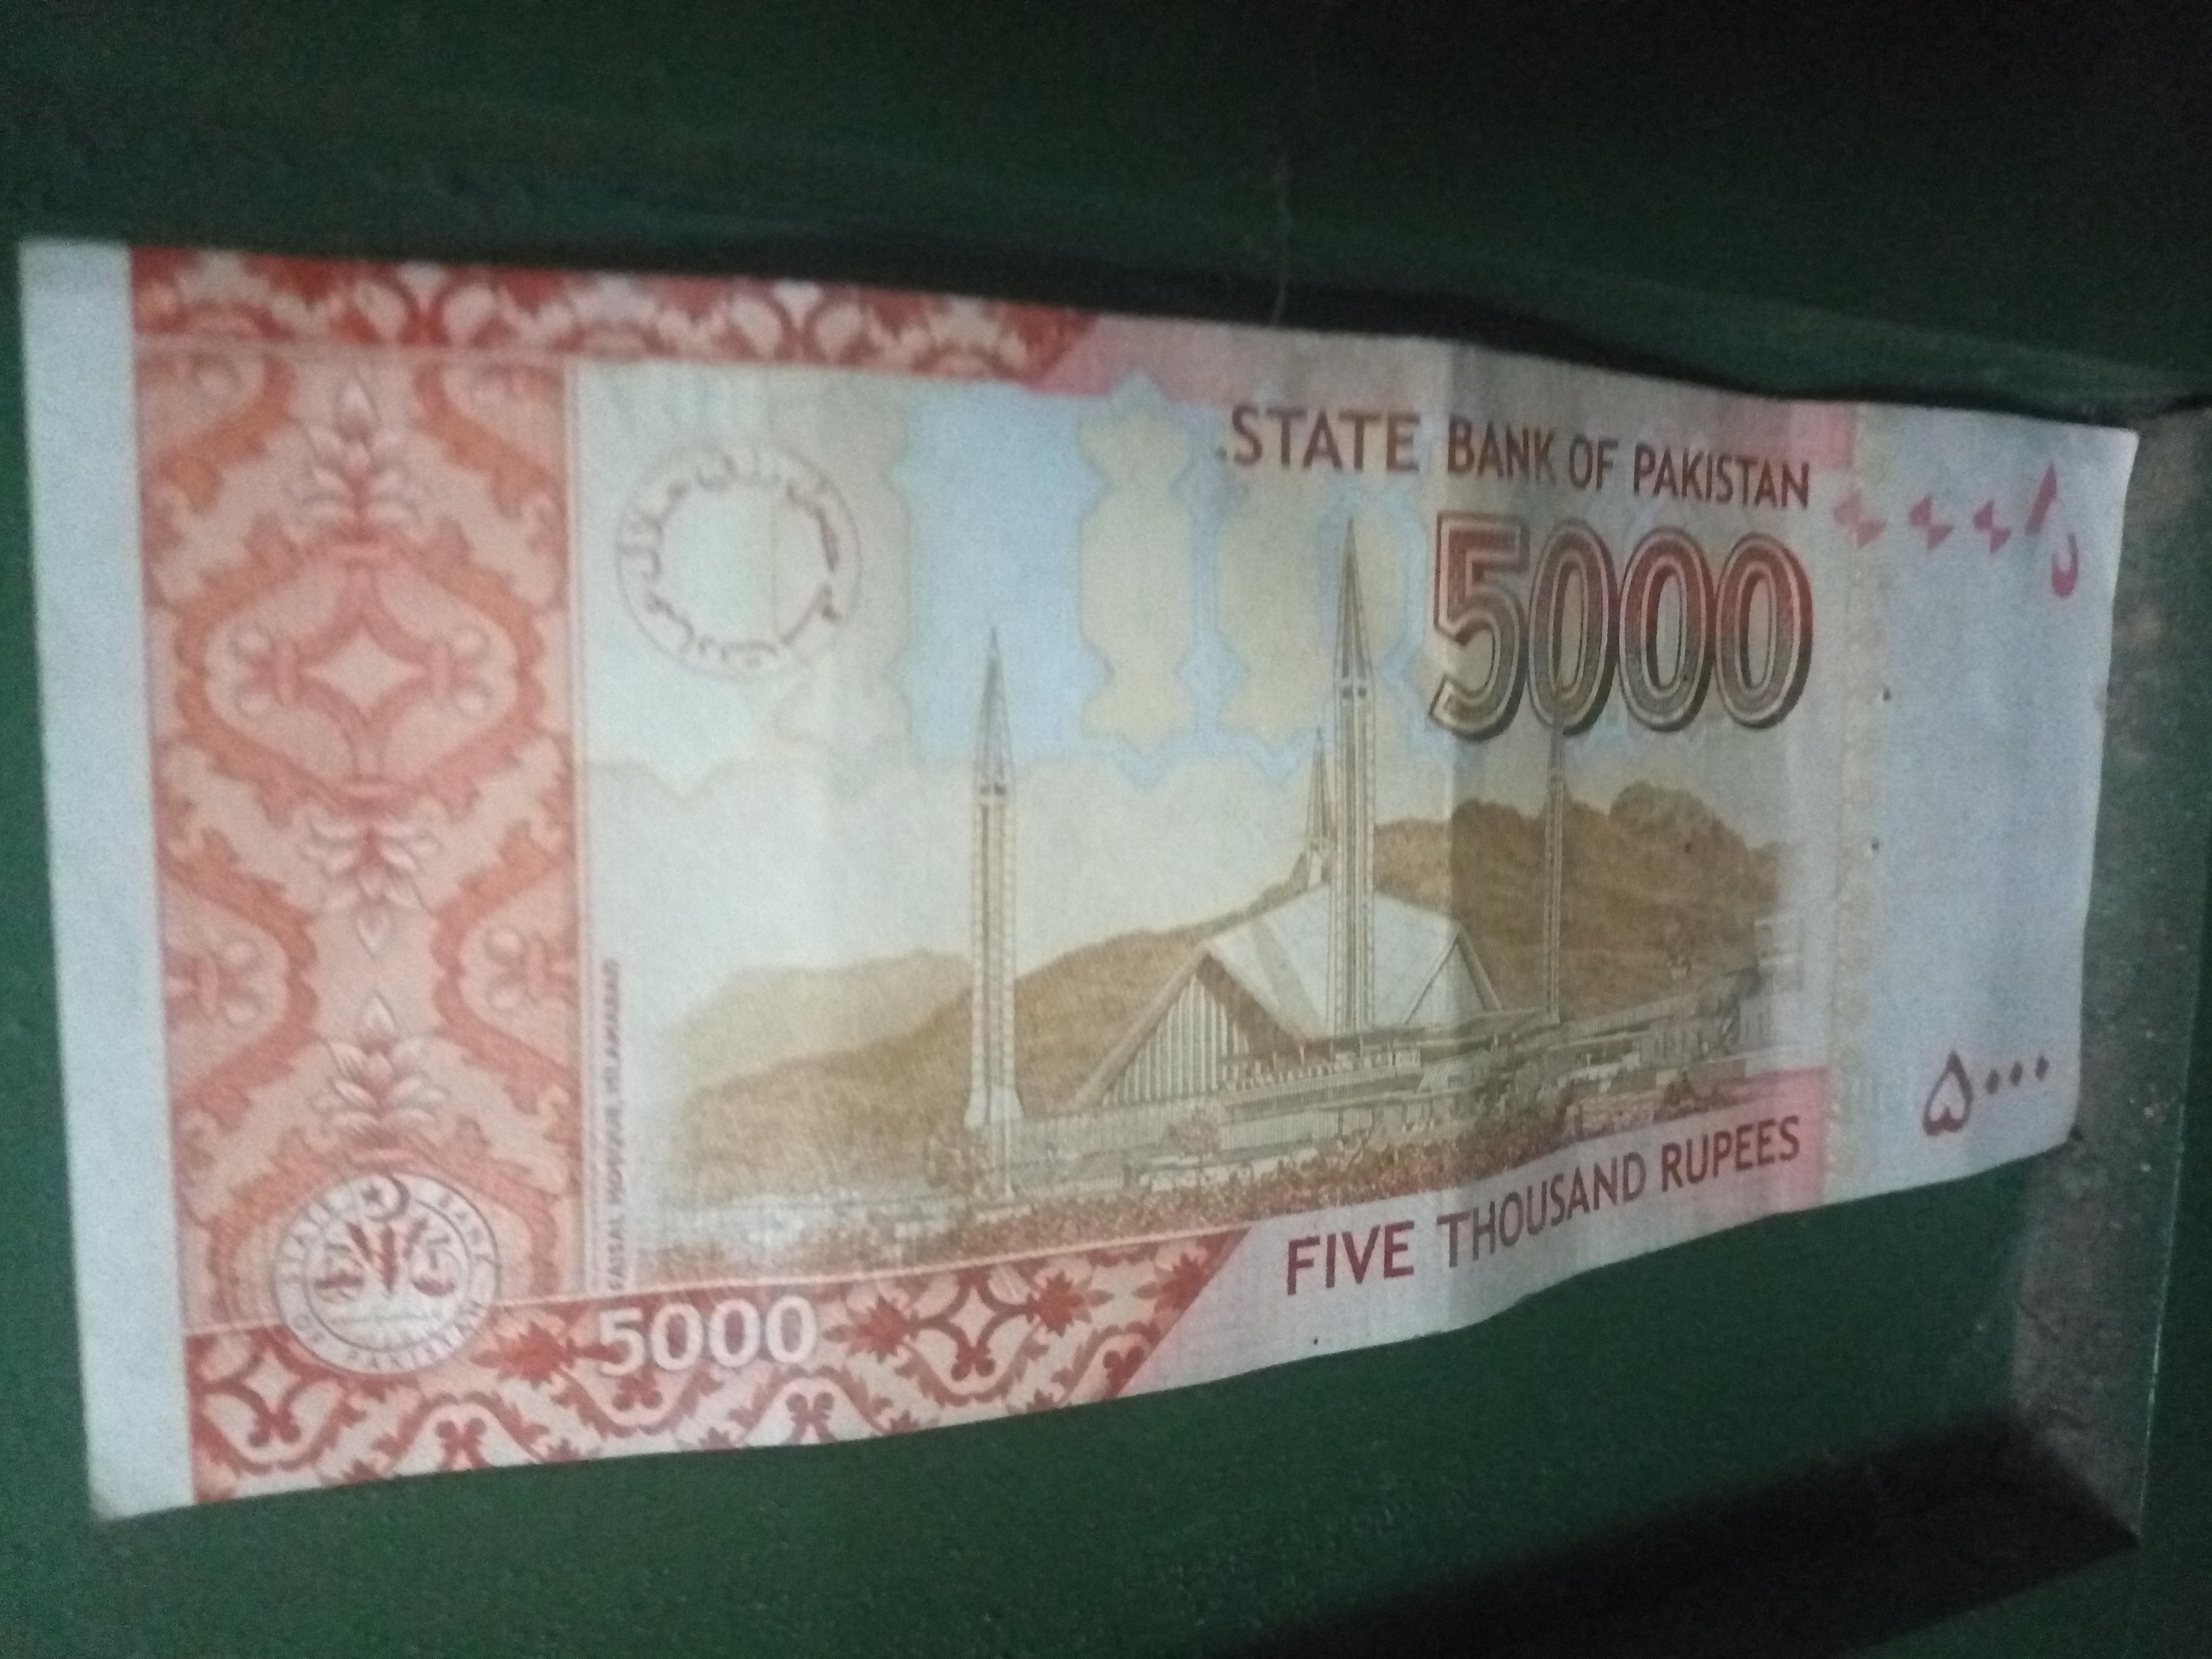5000 rupee: (37, 179, 2144, 1577)
